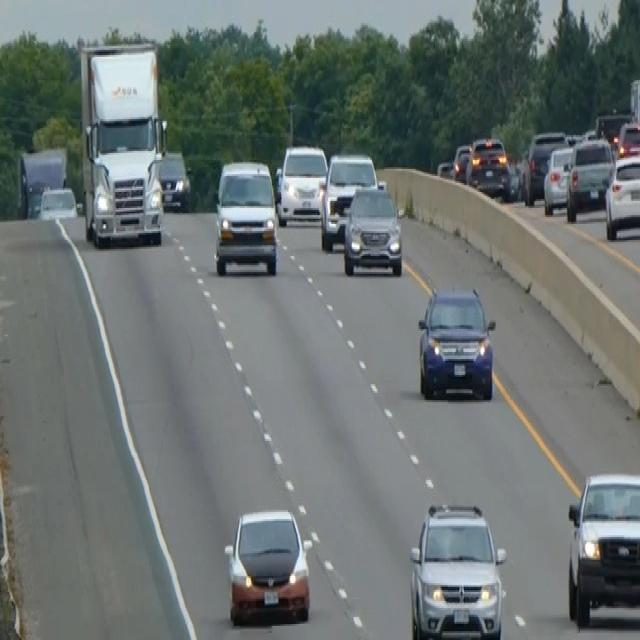car: (223, 505, 311, 626), (416, 283, 496, 402), (319, 149, 378, 251), (342, 180, 403, 278), (276, 142, 328, 226), (565, 134, 614, 220), (521, 128, 567, 204), (604, 151, 639, 240), (465, 134, 510, 198), (542, 144, 573, 213), (158, 148, 190, 210), (37, 185, 78, 220), (616, 118, 639, 158), (451, 142, 472, 182)
jeep: (408, 498, 507, 638), (565, 470, 639, 628)
lorry: (77, 39, 167, 249), (16, 146, 67, 218)
minivan: (212, 156, 279, 278)
